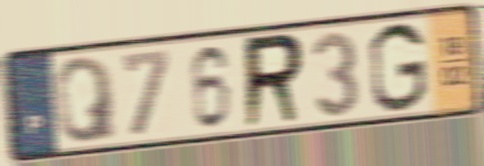3: (309, 27, 360, 122)
6: (188, 42, 234, 130)
7: (120, 45, 173, 140)
G: (366, 19, 429, 115)
Q: (52, 53, 120, 146)
R: (241, 29, 307, 133)
